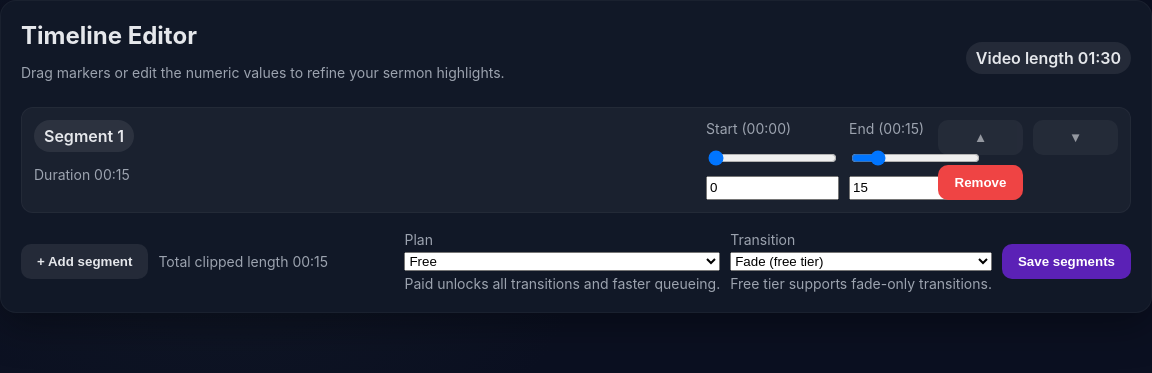
Test case: SegmentTimeline › posts the segment list to the backend
Click the button "Save segments" at (1066, 262), box [1002, 244, 1131, 279]
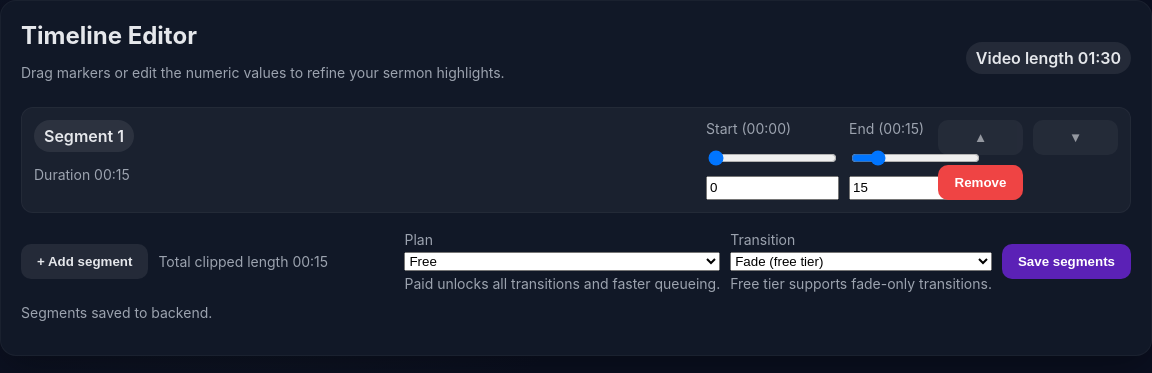
Expected: the text with test id "save-status" shows "Segments saved", [21, 304, 212, 321]
